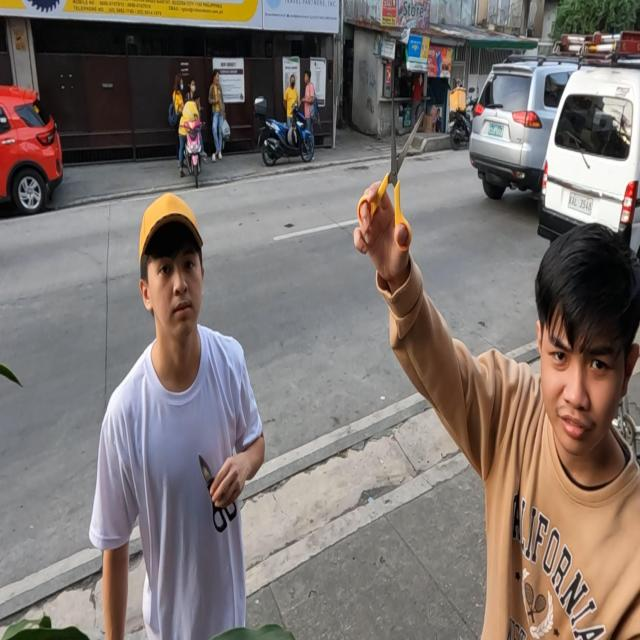scissor: (356, 89, 424, 252), (198, 452, 237, 533)
